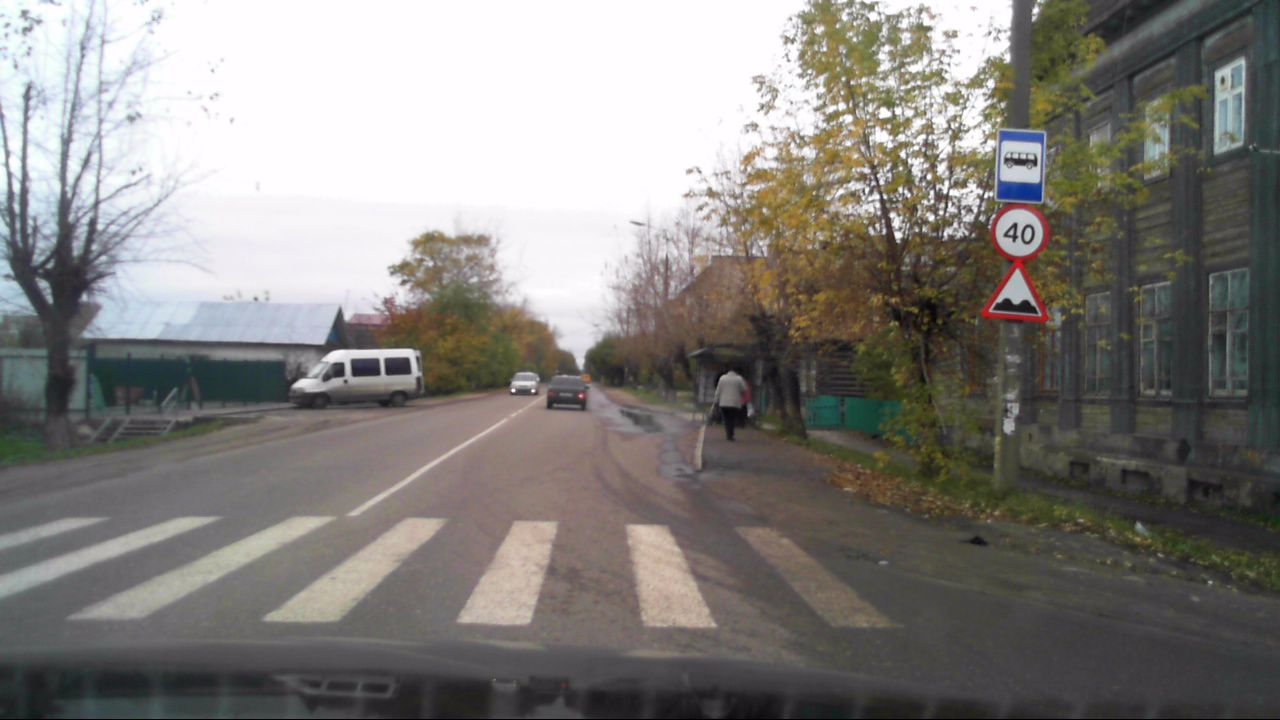speed_warning_40: (989, 206, 1048, 263)
